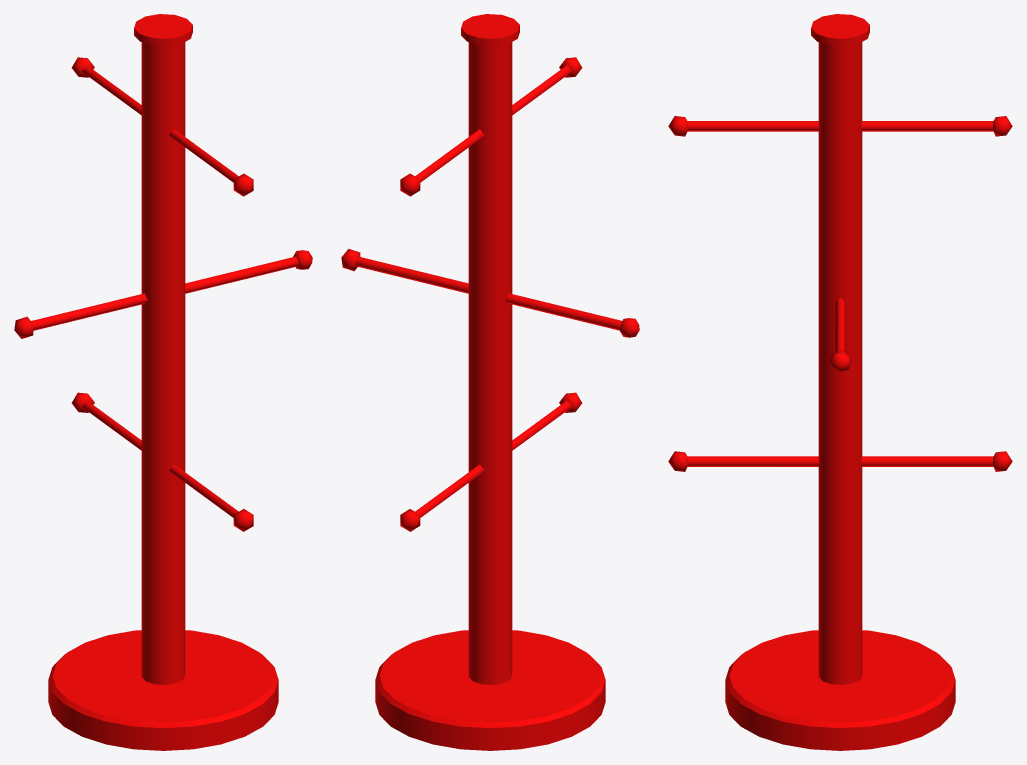
The model's file is stoika.FBX.
3 renders of one model, left to right at view 1: azimuth 30°, elevation 25°; view 2: azimuth 150°, elevation 25°; view 3: azimuth 270°, elevation 25°, orthographic.
Visible parts, largest first — view 1: stoika, stoika_c1; view 2: stoika, stoika_c1; view 3: stoika, stoika_c1.
Part boxes in pixels (left/top/right/bottom): stoika: left=14, top=14, right=312, bottom=750; stoika_c1: left=141, top=42, right=185, bottom=684; stoika: left=341, top=14, right=639, bottom=750; stoika_c1: left=468, top=42, right=512, bottom=684; stoika: left=668, top=14, right=1012, bottom=750; stoika_c1: left=818, top=42, right=862, bottom=684.
Size of the model in its own units: 0.5988 by 1.3 by 0.5988.
